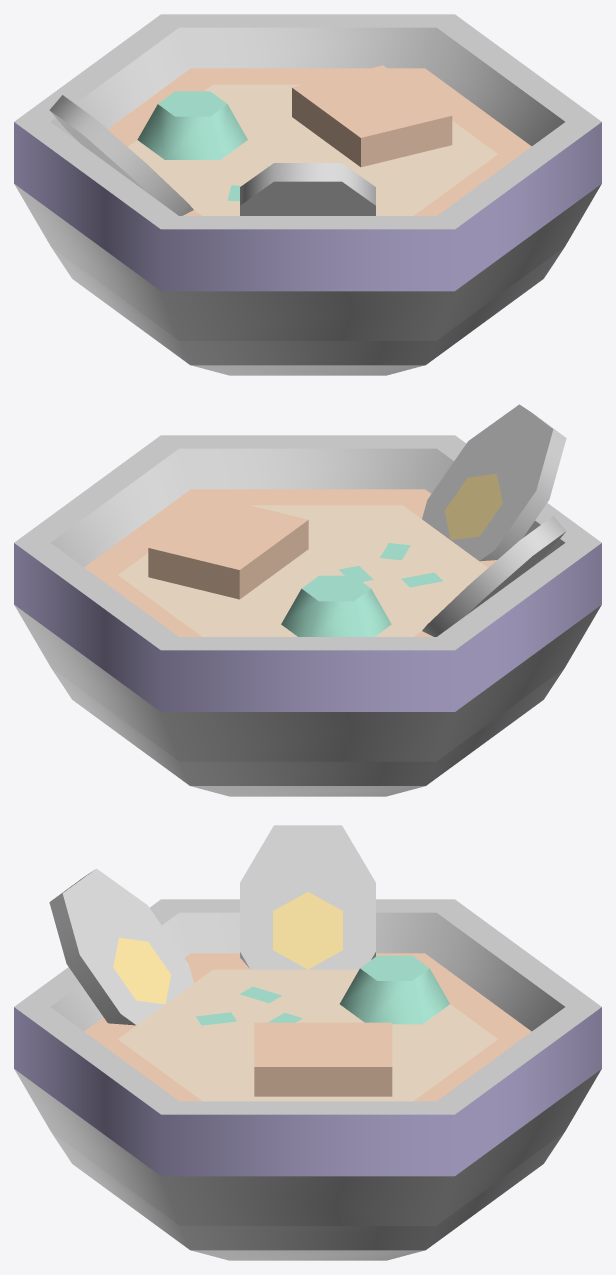
File: bowlBroth_test.fbx
3 views of the same model, one above another, from view 1: azimuth 30°, elevation 25°; view 2: azimuth 150°, elevation 25°; view 3: azimuth 270°, elevation 25° (orthographic).
Visible parts, largest first — view 1: bowlBroth; view 2: bowlBroth; view 3: bowlBroth.
Boxes of the visible parts, bbox=[...] form: bowlBroth: bbox=[14, 14, 601, 375]; bowlBroth: bbox=[14, 404, 601, 796]; bowlBroth: bbox=[14, 825, 601, 1260].
Size of the model in its own units: 52.62 by 29.03 by 57.98.
